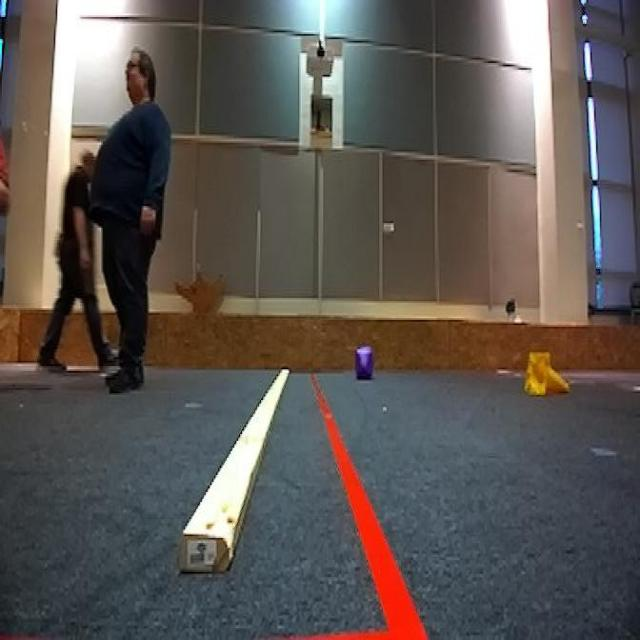frc_cone: (524, 349, 568, 398)
frc_cube: (356, 347, 374, 380)
